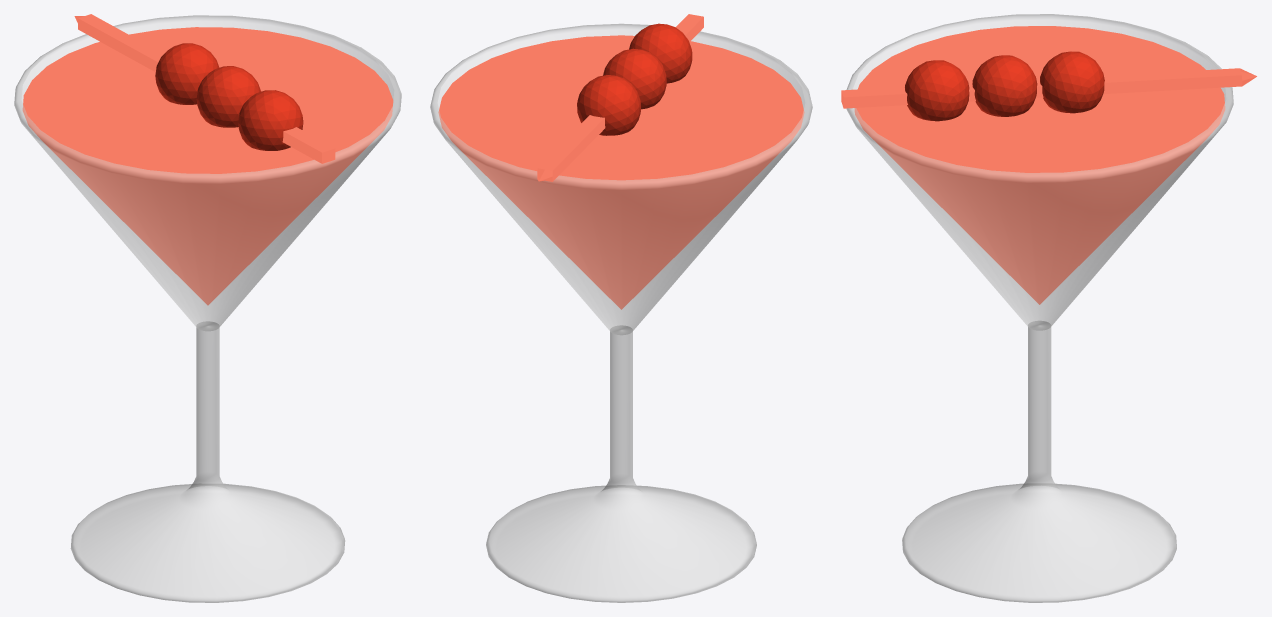
Rendered from bloodmoon-cup.glb.
3 views of the same model, side by side, from view 1: azimuth 30°, elevation 25°; view 2: azimuth 150°, elevation 25°; view 3: azimuth 270°, elevation 25° (orthographic).
Visible parts, largest first — view 1: Cylinder.004; view 2: Cylinder.004; view 3: Cylinder.004.
Boxes of the visible parts, x1,y1,x2,y2 form: Cylinder.004: (14, 14, 401, 602); Cylinder.004: (430, 14, 812, 602); Cylinder.004: (841, 14, 1256, 602).
Size of the model in its own units: 0.2053 by 0.2863 by 0.2199.
